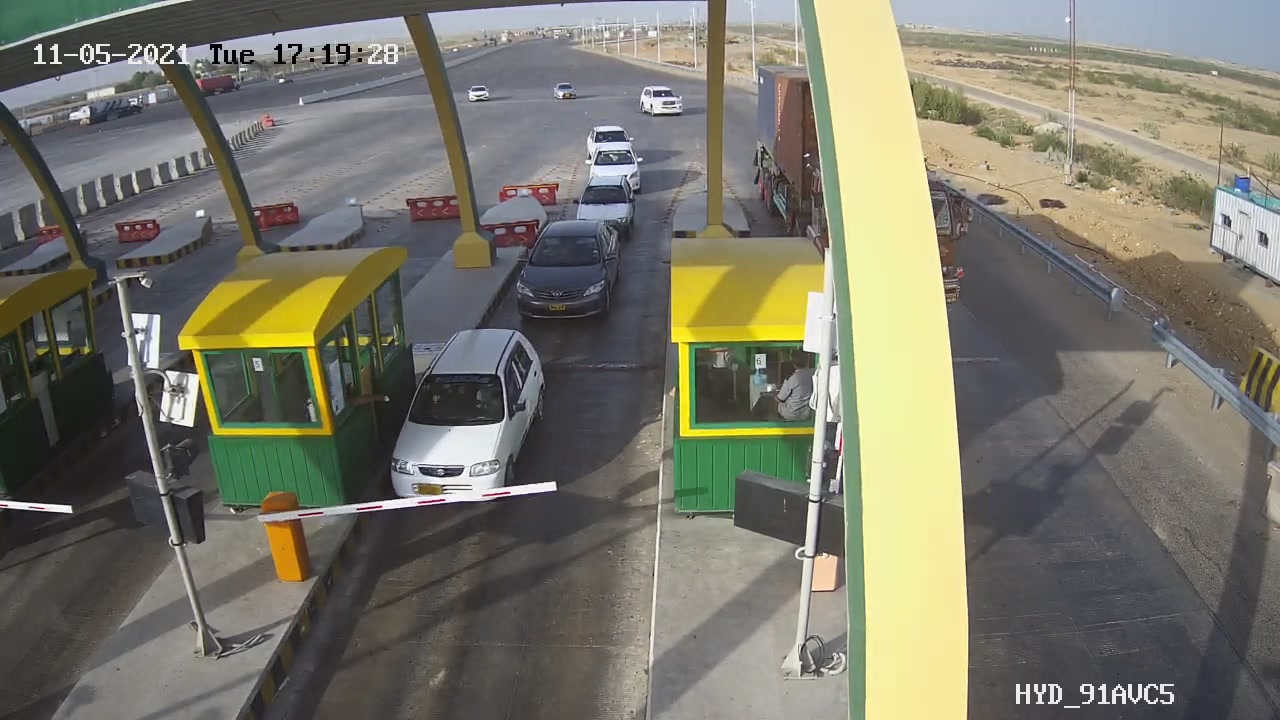F1: (374, 314, 563, 524), (503, 208, 638, 333)
